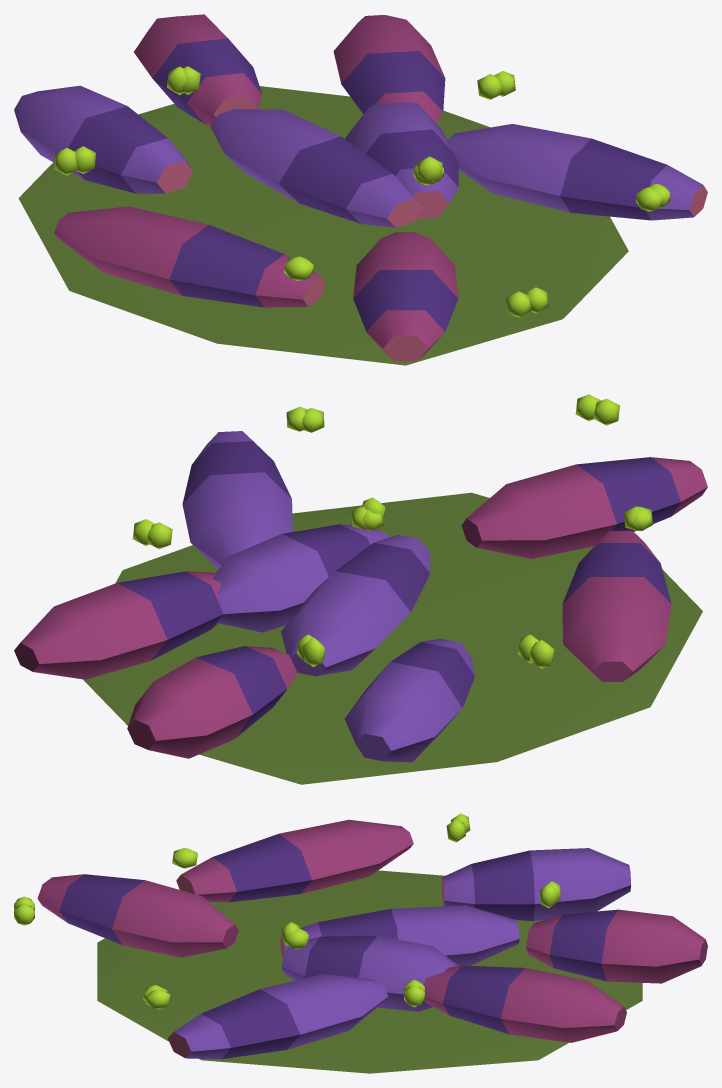
Rendered from e_mutanten_egelschwarm.glb.
3 views of the same model, one above another, from view 1: azimuth 30°, elevation 25°; view 2: azimuth 150°, elevation 25°; view 3: azimuth 270°, elevation 25° (orthographic). The views are drawn at different scales.
Visible parts, largest first — view 1: body; view 2: body; view 3: body.
Boxes of the visible parts, bbox=[...] form: body: bbox=[14, 14, 707, 365]; body: bbox=[14, 394, 707, 784]; body: bbox=[14, 813, 707, 1073].
Size of the model in its own units: 1.5 by 0.2627 by 1.99.
